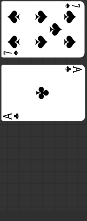7C: (3, 49, 20, 56)
AC: (3, 111, 21, 120)
